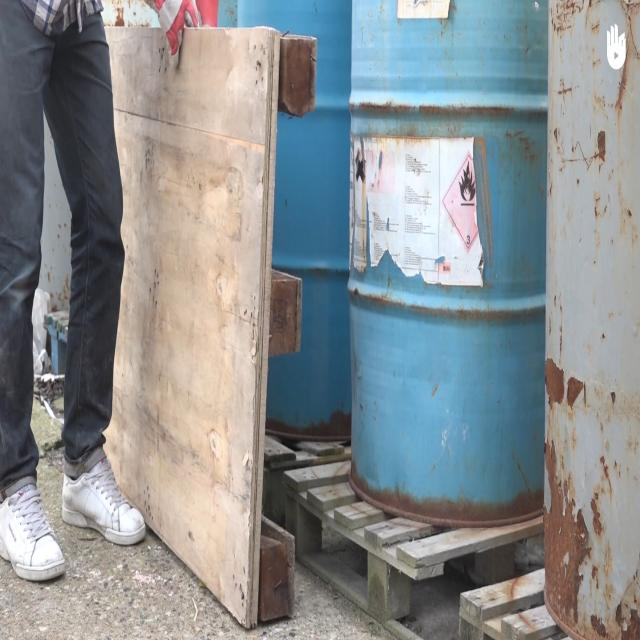Palette: (102, 22, 325, 625), (280, 456, 558, 630), (458, 566, 576, 640), (260, 427, 348, 508), (38, 302, 70, 378)
